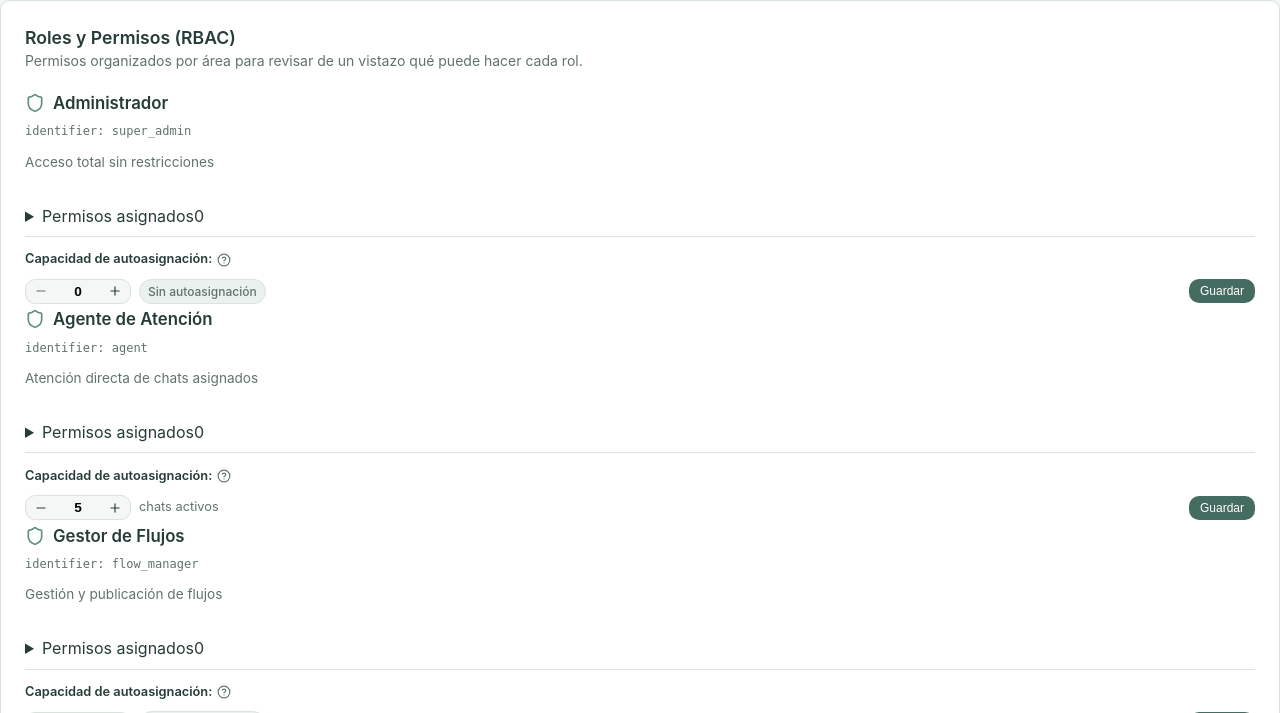
Test case: RolesView - Differentiated Auto-assignment Capacity & Naming › allows setting and saving 0 capacity for Administrador
This screenshot has width=1280, height=713.
Later steps or results of the test are not shown.
Expected: the heading "Administrador" is shown, [53,91,168,115]
Note: Increase to 1
Step 1. Click the button named "Aumentar capacidad de Administrador" → (115, 291), box [100,280,130,302]
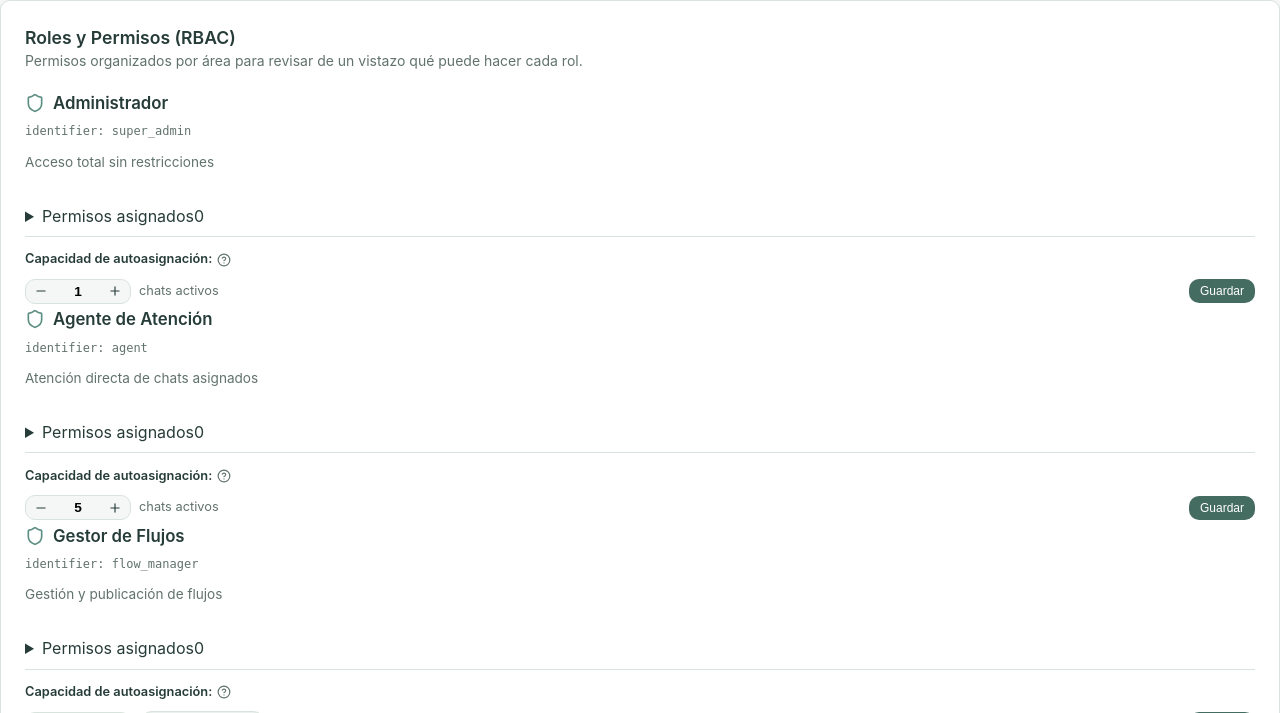
Expected: the number field named "Capacidad para Administrador" holds "1", [56,280,100,303]
Expected: the button named "Disminuir capacidad de Administrador" is enabled
Note: Decrease back to 0
Step 2. Click the button named "Disminuir capacidad de Administrador" → (41, 291), box [26,280,56,302]
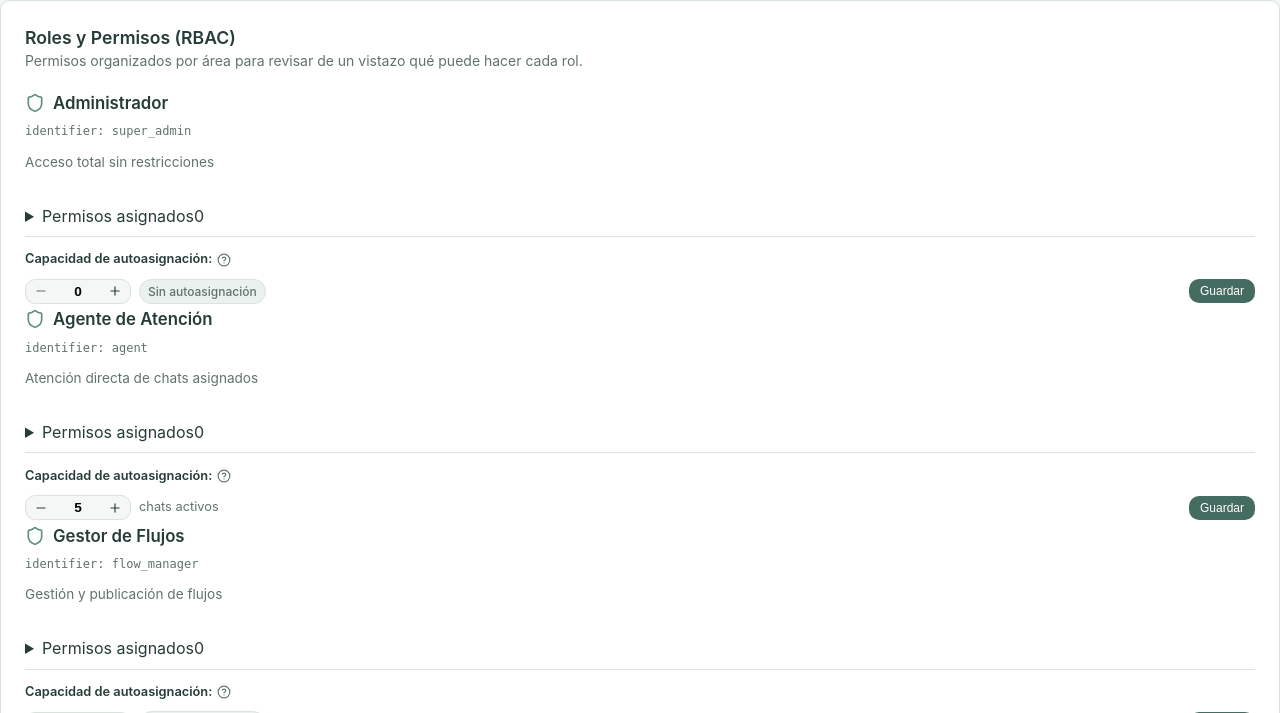
Expected: the number field named "Capacidad para Administrador" holds "0", [56,280,100,303]
Expected: the button named "Disminuir capacidad de Administrador" is disabled, [26,280,56,302]
